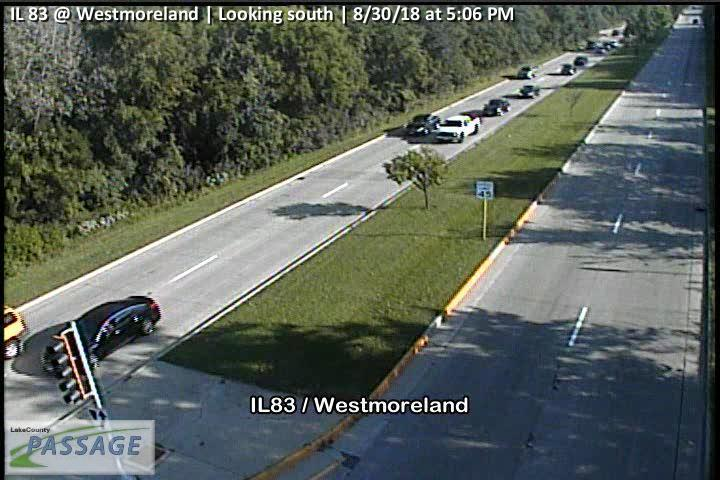SUV: (517, 64, 541, 79)
Sedan: (41, 295, 161, 380), (405, 113, 441, 136), (481, 99, 511, 116), (517, 84, 540, 98), (561, 63, 578, 75), (574, 55, 588, 66)
Truck: (434, 111, 481, 144)
